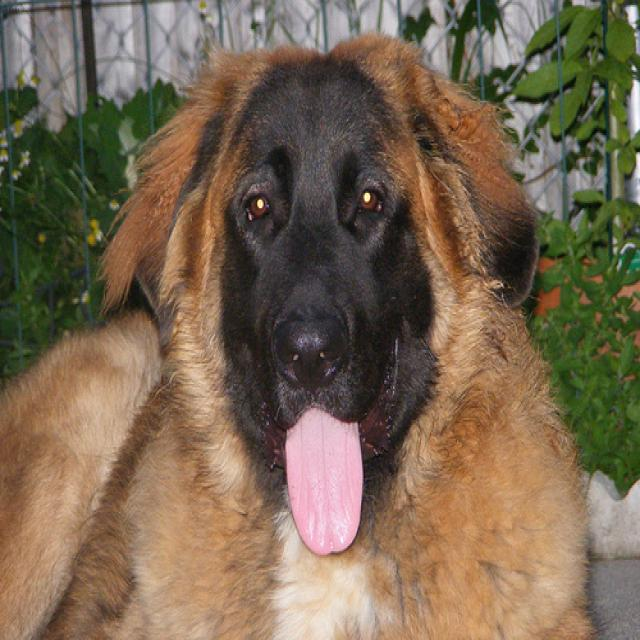dog-leonberger: (1, 19, 612, 637)
